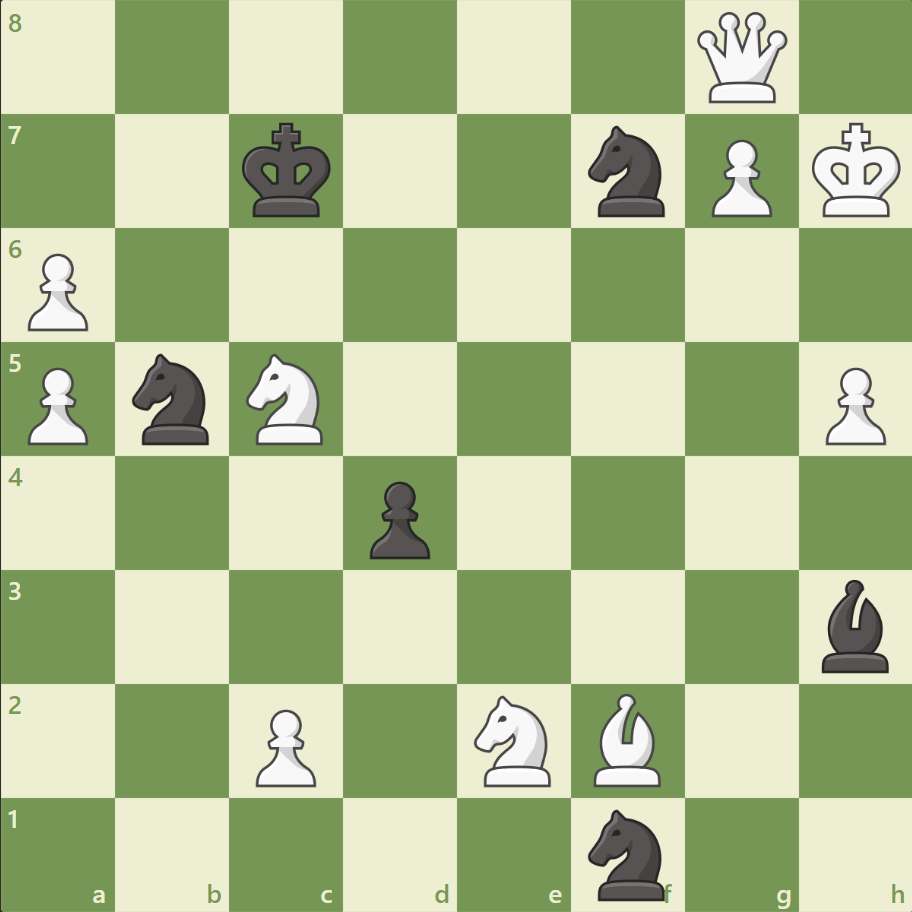B: (585, 687, 669, 790)
K: (806, 117, 906, 225)
N: (465, 688, 562, 791), (238, 348, 335, 450)
P: (701, 132, 776, 223), (20, 246, 95, 337), (20, 359, 95, 450), (247, 700, 322, 791), (815, 359, 889, 450)
Q: (691, 9, 790, 108)
b: (812, 574, 896, 676)
k: (238, 117, 338, 225)
n: (124, 348, 222, 450), (579, 121, 676, 223), (579, 802, 676, 904)
p: (361, 473, 435, 564)
